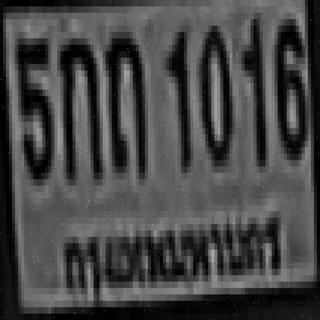A01: (59, 32, 101, 179)
A22: (104, 26, 146, 173)
N00: (196, 19, 229, 160)
N01: (164, 22, 188, 170), (240, 16, 264, 163)
N05: (14, 32, 50, 179)
N06: (273, 13, 303, 154)
P04: (60, 213, 286, 298)
